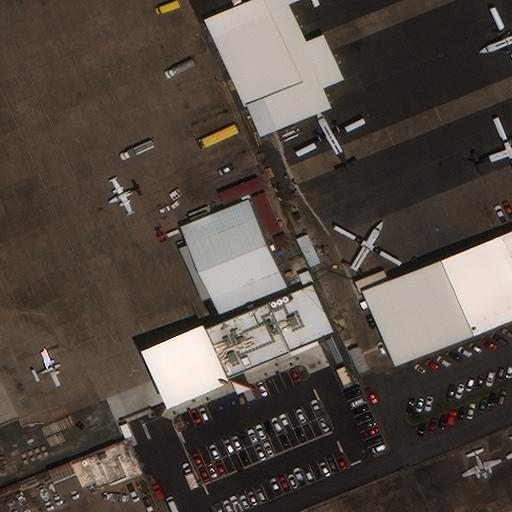Medium Civil Transport: (295, 110, 362, 170), (335, 221, 401, 270), (474, 116, 512, 179), (478, 9, 512, 70)
Small Civil Transport: (462, 450, 501, 478), (108, 181, 138, 214), (33, 352, 61, 384)
